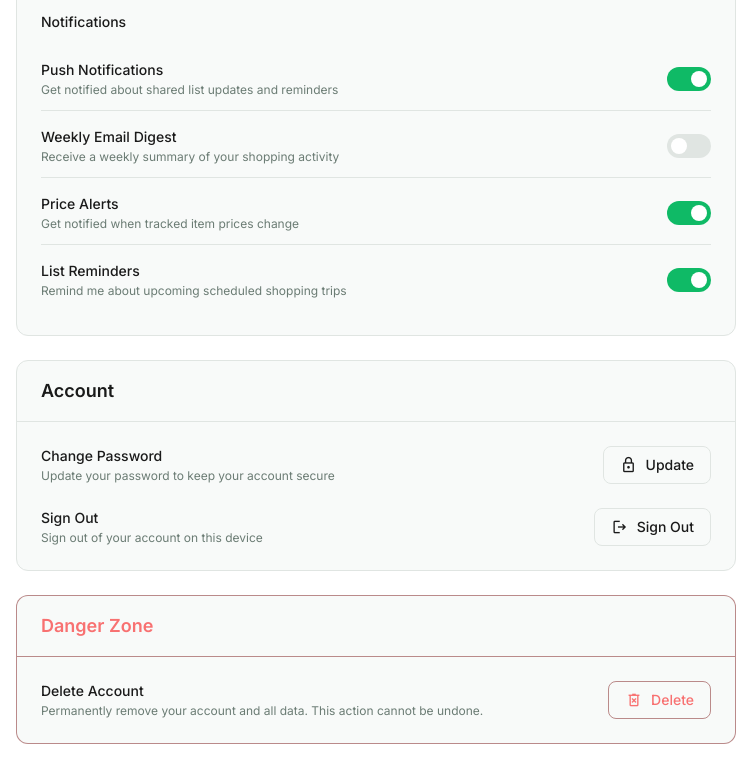
Scenario: SettingsPage › can cancel delete confirmation
(page scrolled)
Click the button "Delete": (660, 700) [608, 681, 711, 719]
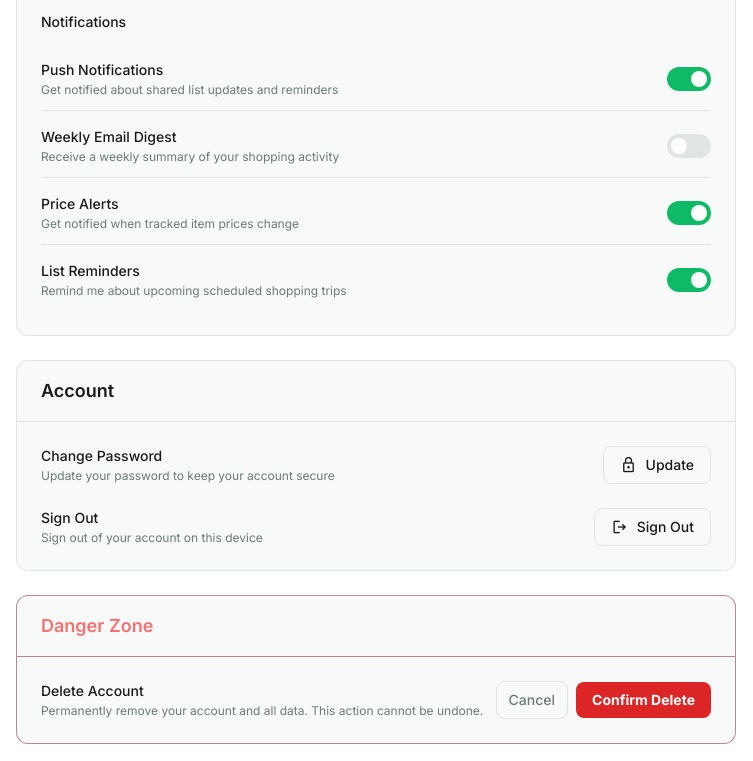
Result: the button "Confirm Delete" is shown at [576, 682, 711, 718]
Click the button "Cancel": (532, 700) [496, 681, 568, 719]
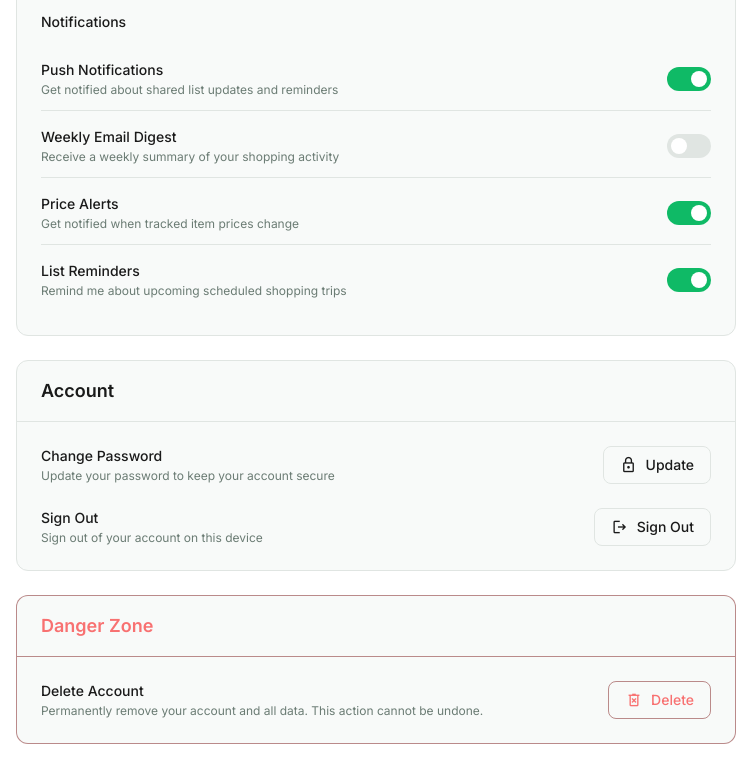
Result: the button "Confirm Delete" is gone
